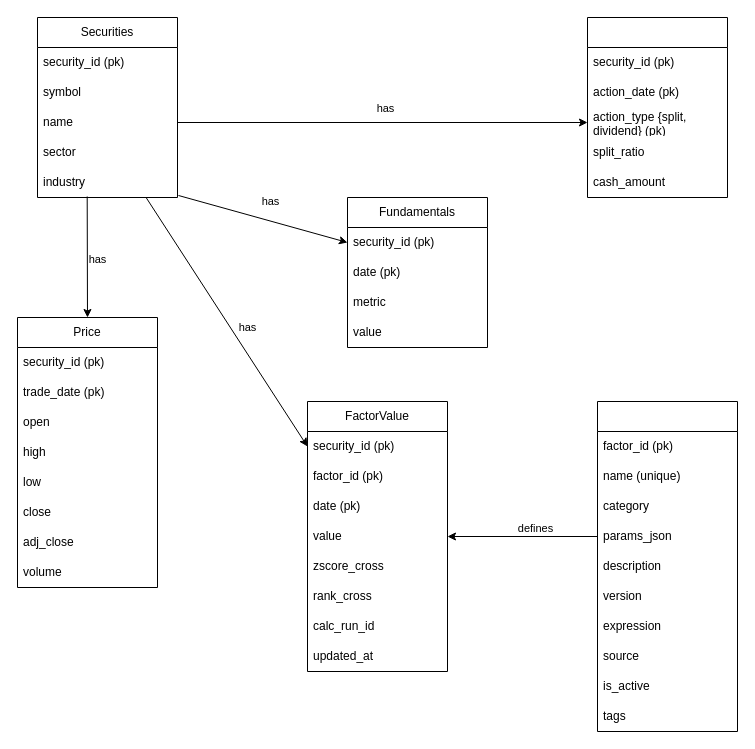
Some shapes in this 755 by 749 pixel diagram are drawn without their labels. The shapes that lost their labels are listed below. From the top down, each one's box as (x1, y1, x2, y2) in pixels, then its label:
(586, 16, 728, 198): CorporateAction
(596, 400, 738, 732): FactorDefinition
